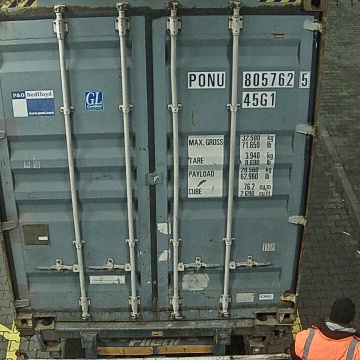serial_id: (188, 72, 308, 87)
